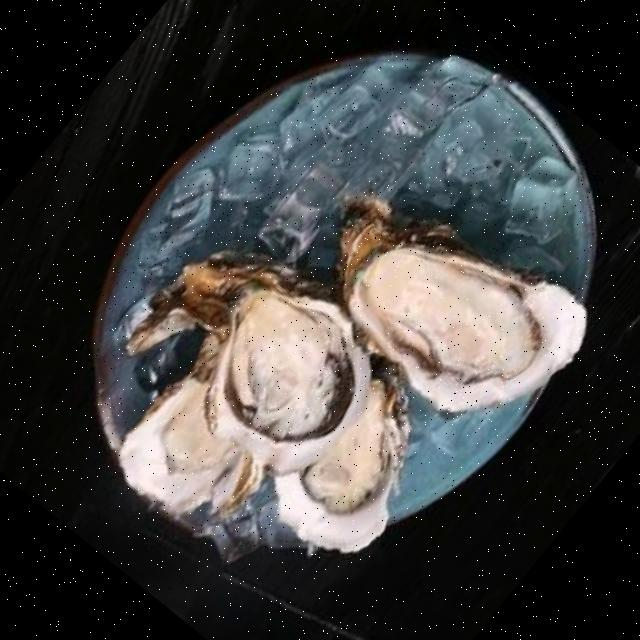Oyster-Closed: (129, 254, 287, 352)
Oyster-Open: (326, 202, 586, 418), (200, 273, 368, 461), (108, 358, 260, 530), (274, 366, 412, 552)
